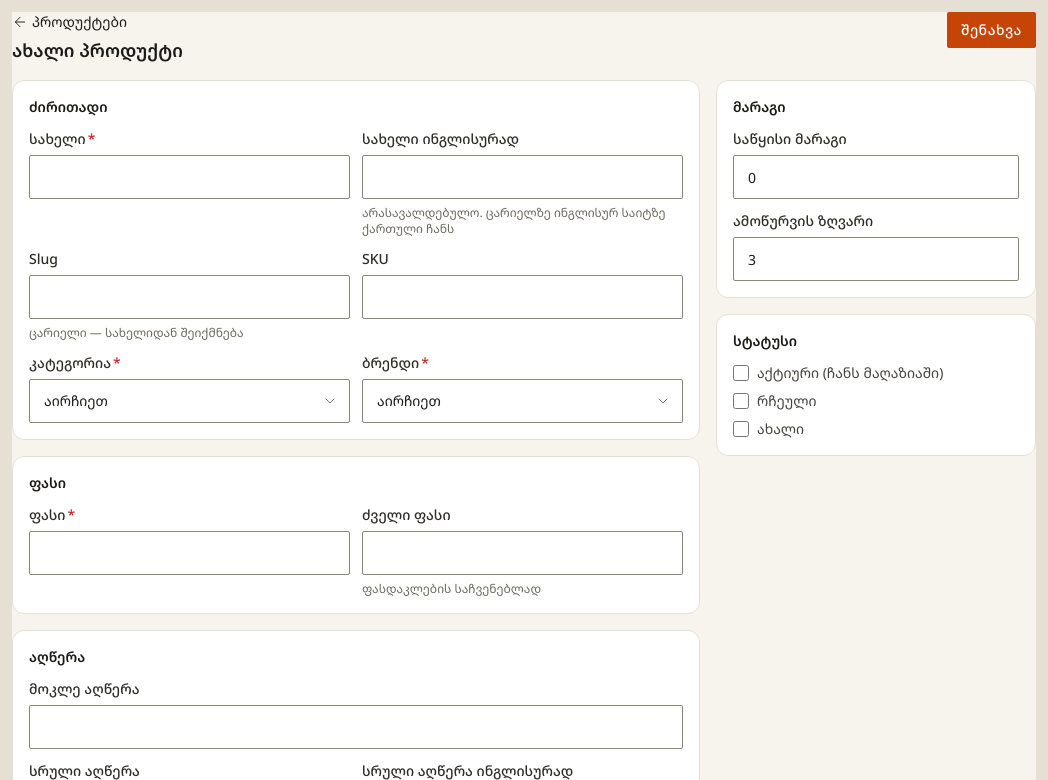
Scenario: ProductForm validation › rejects an old price that is not above the price
Expected: the dropdown labelled "კატეგორია*" is shown, [29,379,350,423]
Type "ტესტი" into the field labelled "სახელი*" at (190, 177), box [29,155,350,199]
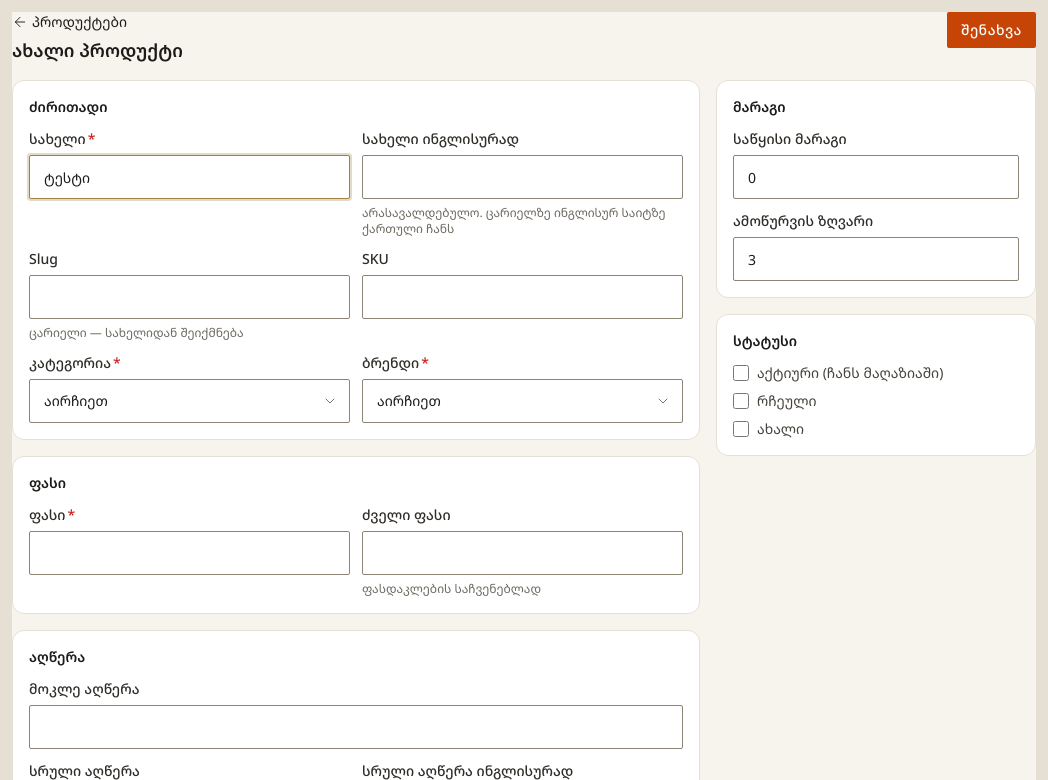
Type "100" into the field labelled "ფასი*" at (190, 553), box [29,531,350,575]
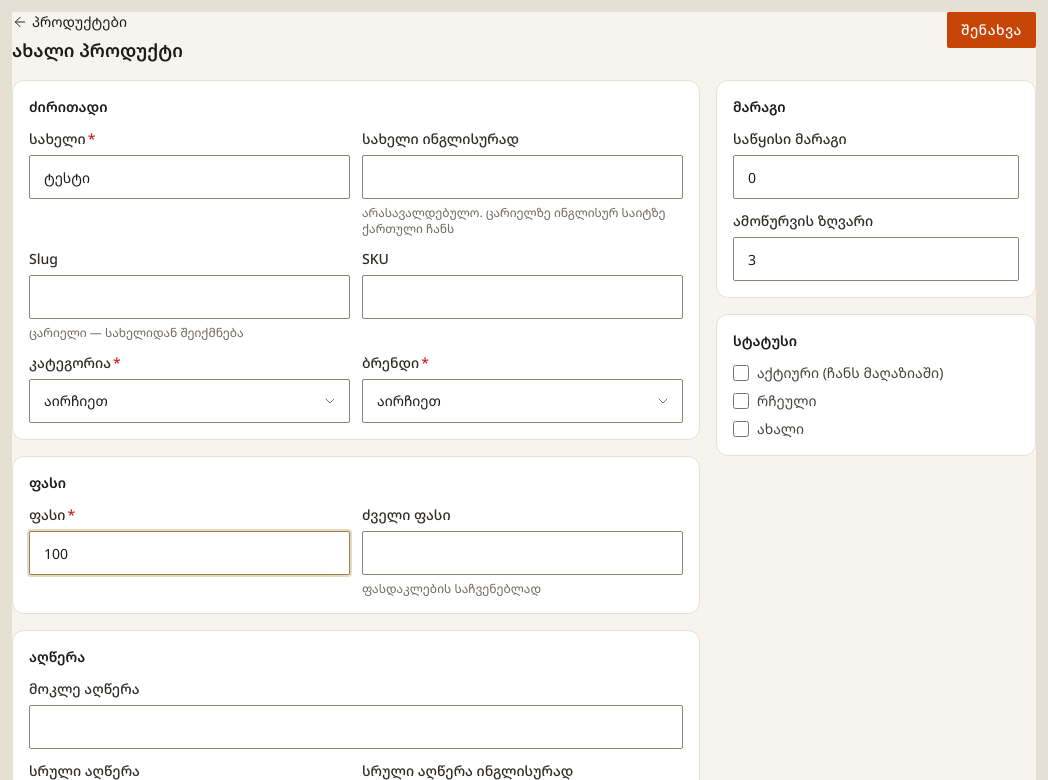
Type "90" into the field labelled "ძველი ფასი" at (522, 553), box [362,531,683,575]
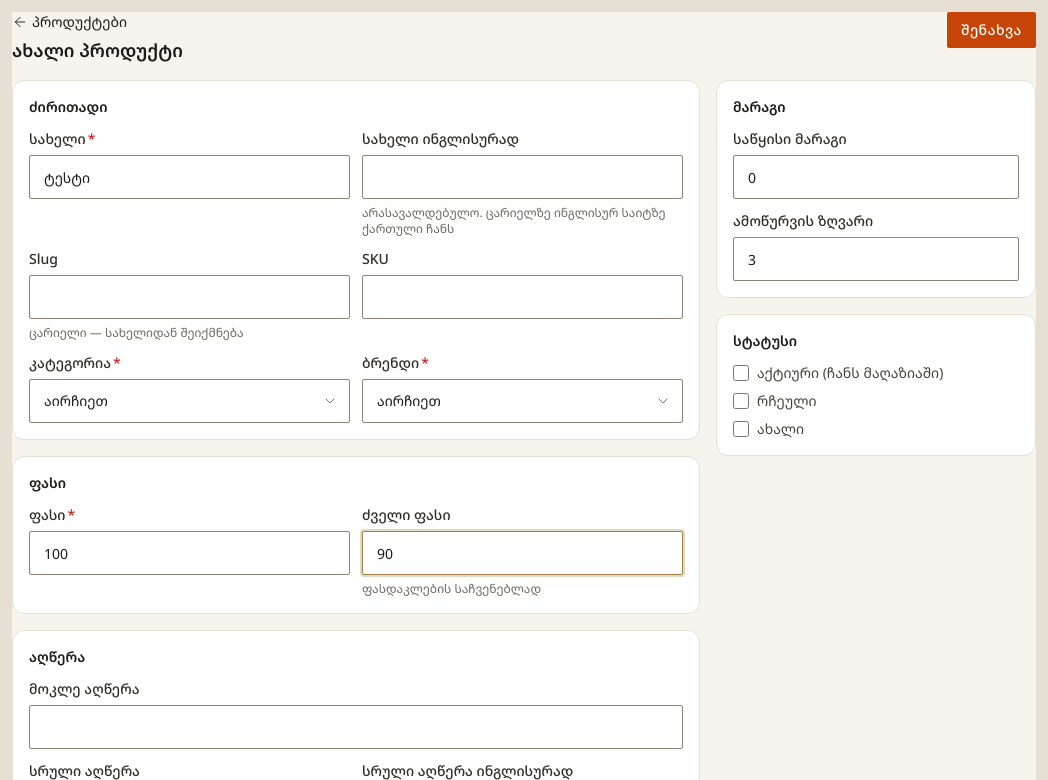
Click the button "შენახვა" at (992, 30), box [947,12,1036,48]
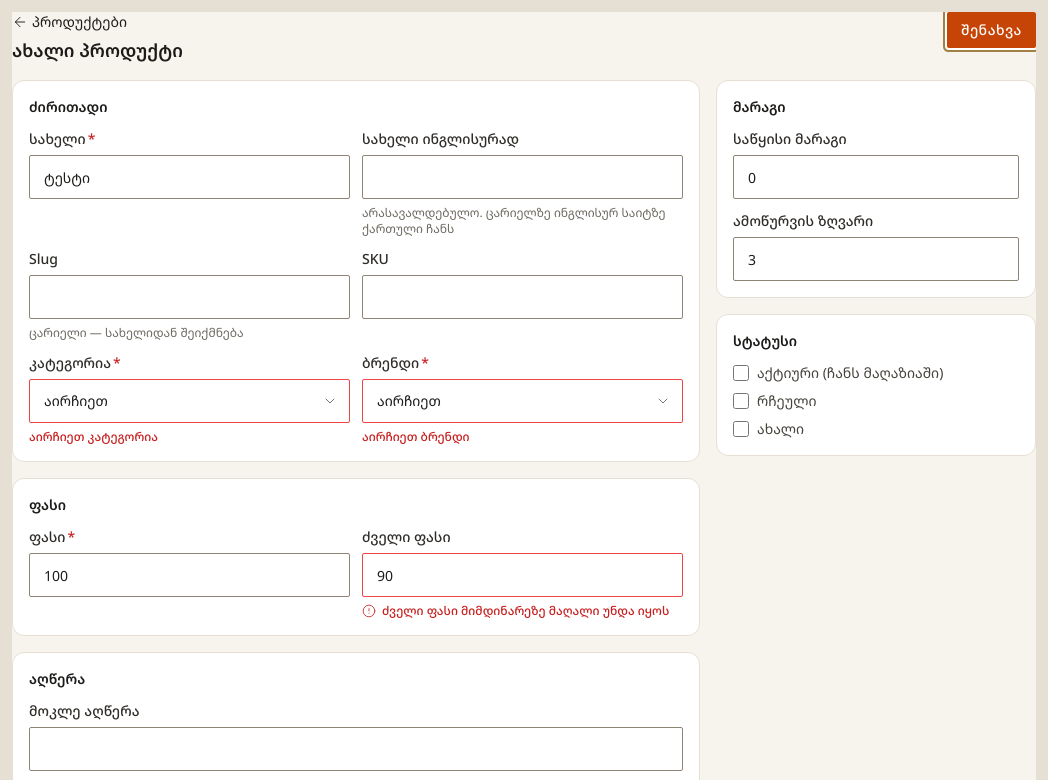
Result: the text "ძველი ფასი მიმდინარეზე მაღალი უნდა იყოს" is shown at [362,603,683,619]
